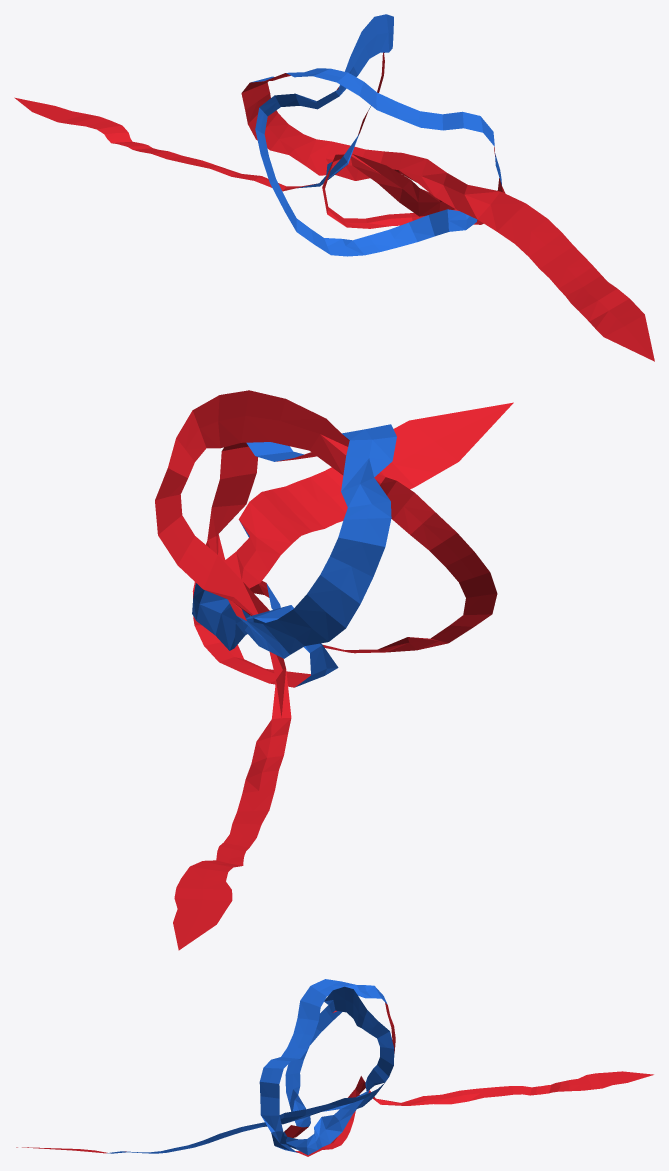
The picture shows the model from 3 angles, top to bottom: view 1: azimuth 30°, elevation 25°; view 2: azimuth 150°, elevation 25°; view 3: azimuth 270°, elevation 25°; orthographic projection. The views are drawn at different scales.
Parts seen in each view (by area): view 1: 1505; view 2: 1505; view 3: 1505.
Boxes of the visible parts, <box> form: 1505: <box>14,14,654,361</box>; 1505: <box>155,390,513,950</box>; 1505: <box>16,979,653,1156</box>.
Size of the model in its own units: 0.6031 by 0.4636 by 1.82.
